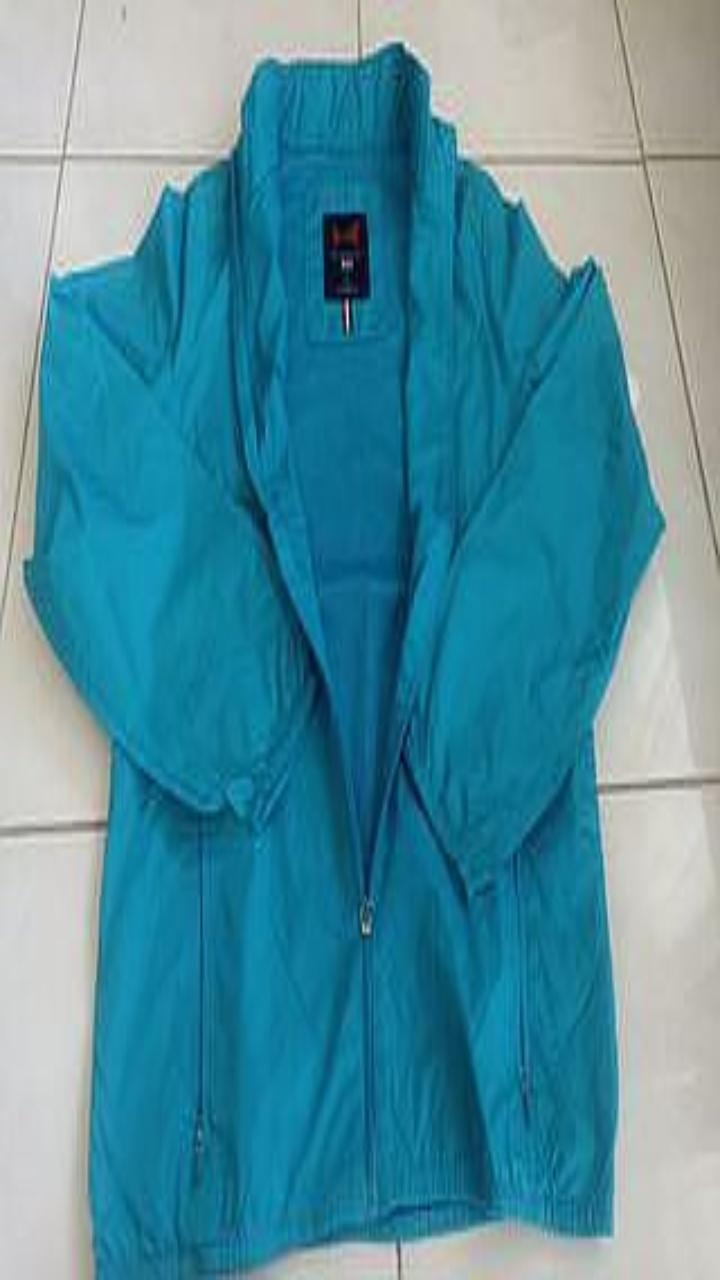Sports_Jacket: (23, 40, 664, 1279)
